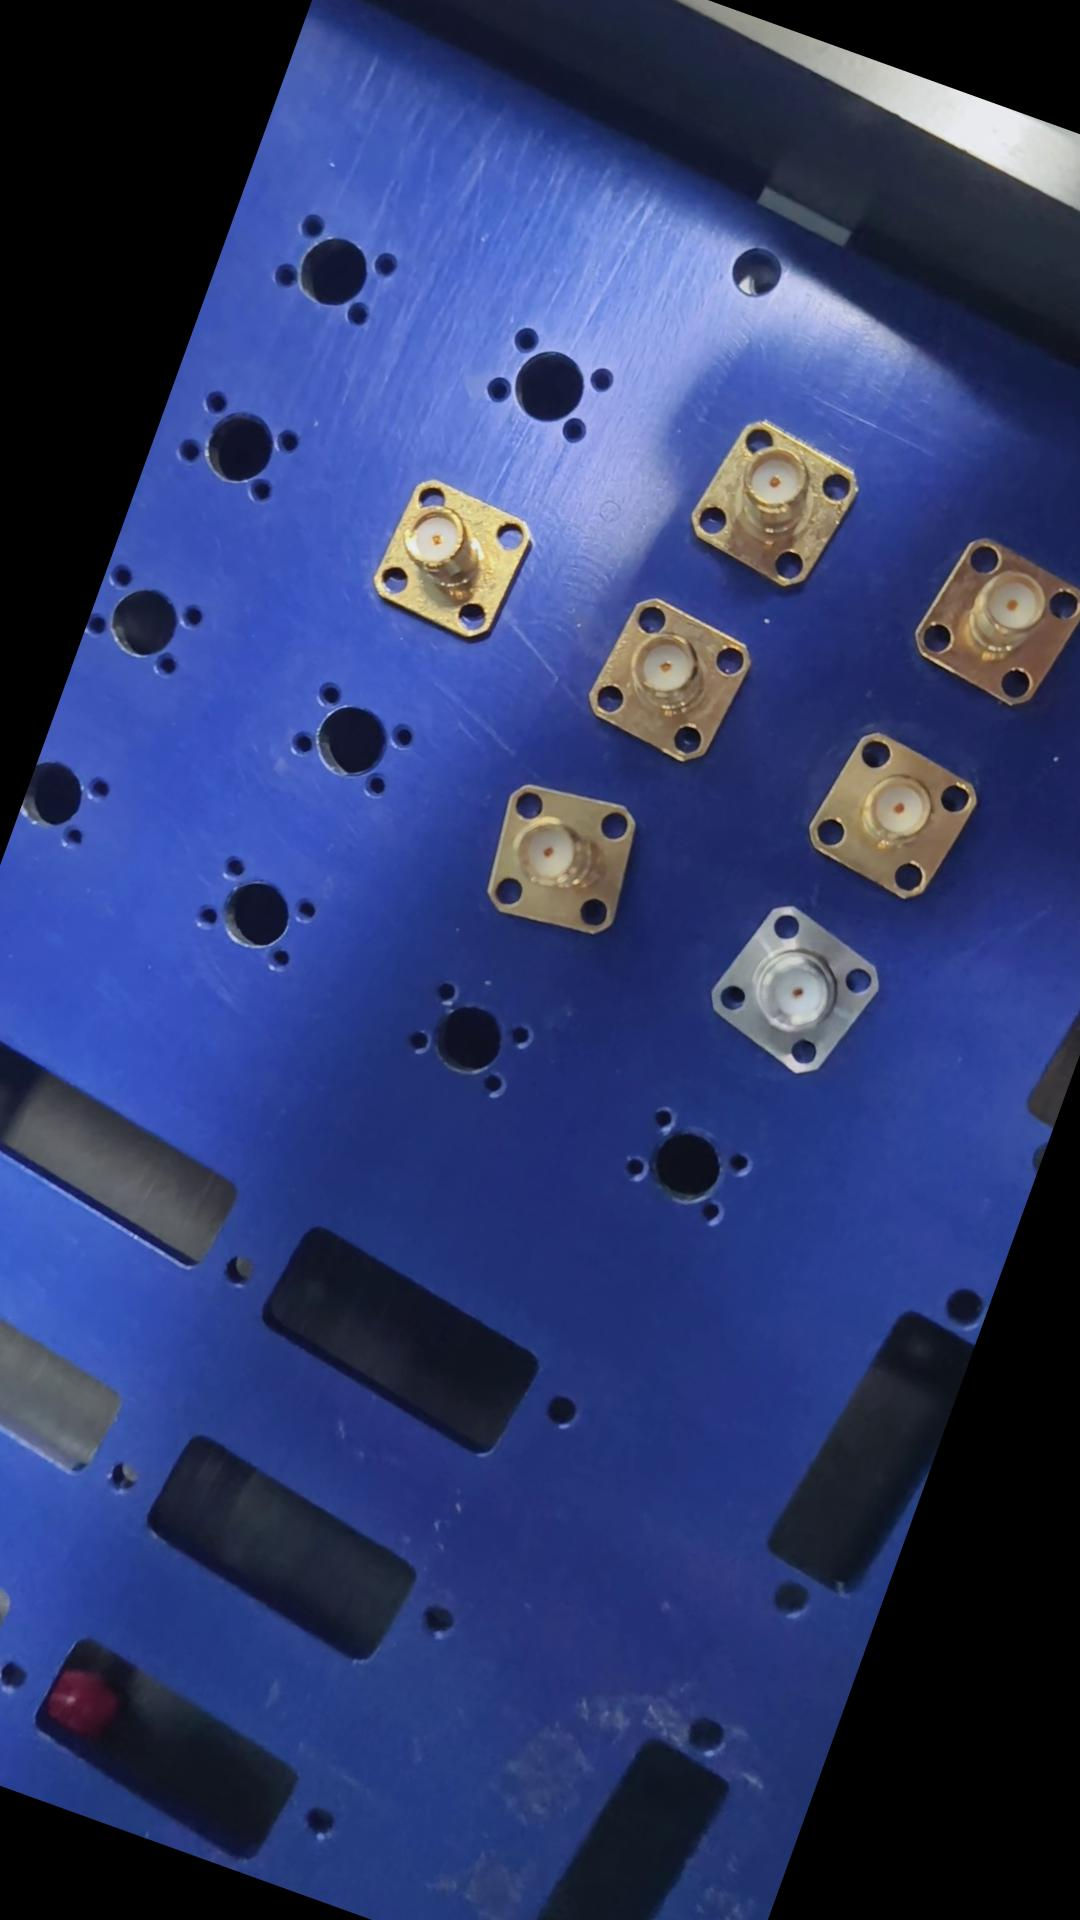SMA: (785, 713, 1001, 916), (684, 881, 895, 1087), (452, 760, 653, 957), (570, 582, 764, 775), (669, 407, 861, 597), (356, 462, 541, 658), (891, 530, 1080, 717)
